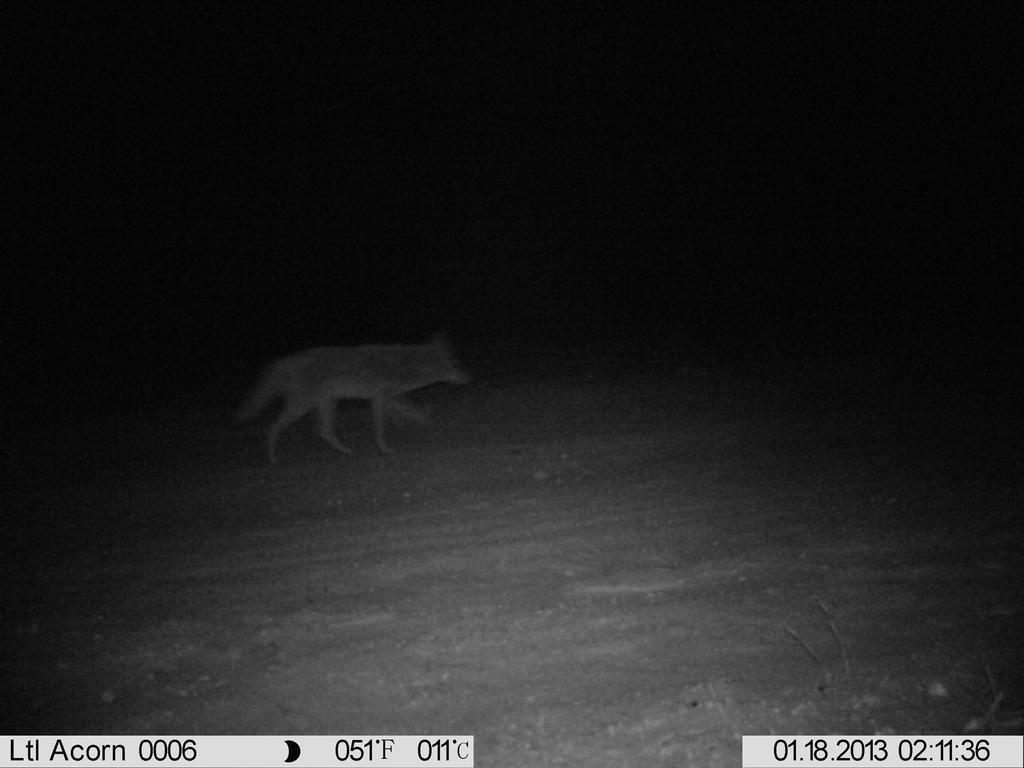coyote: (225, 323, 475, 469)
